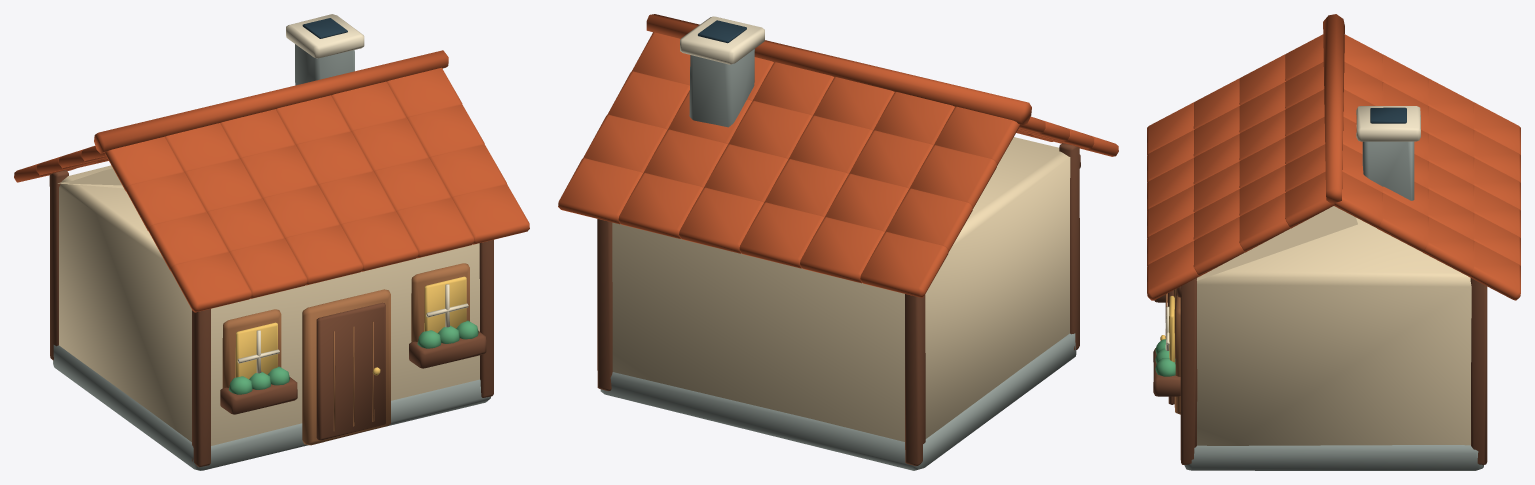
Rendered from cottage.glb.
3 views of the same model, side by side, from view 1: azimuth 30°, elevation 25°; view 2: azimuth 150°, elevation 25°; view 3: azimuth 270°, elevation 25° (orthographic). The views are drawn at different scales.
Parts seen in each view (by area): view 1: cottage_mesh; view 2: cottage_mesh; view 3: cottage_mesh.
Part boxes in pixels (x1,y1,x2,y2): cottage_mesh: (14, 14, 529, 470); cottage_mesh: (558, 14, 1118, 470); cottage_mesh: (1147, 14, 1520, 470).
Bounding box in the file's own units: 4.1 × 3.62 × 3.76.
